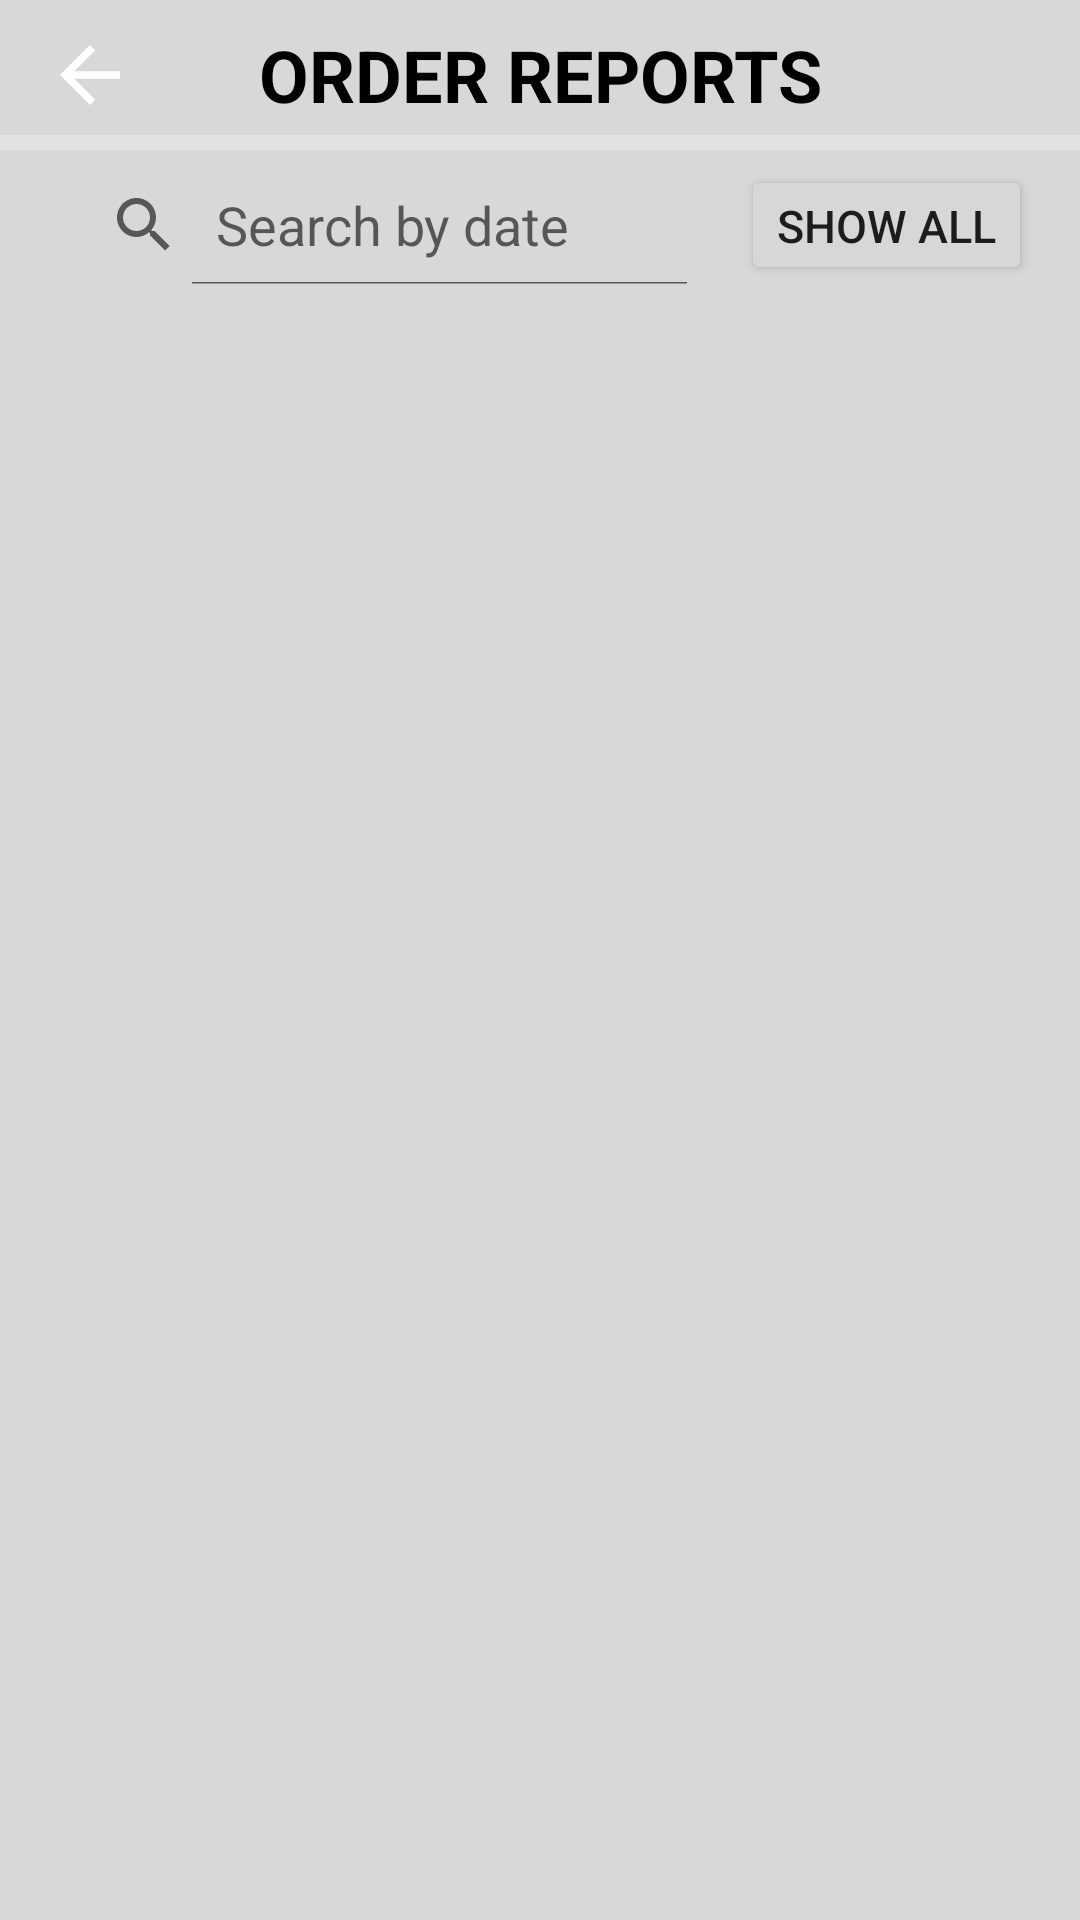

Icon bounding boxes for this 1080px x 1920px phone screenshot, format [x1=x1, y1=y1, x2=x2, y2=y2]:
back: [x1=61, y1=46, x2=120, y2=104]
